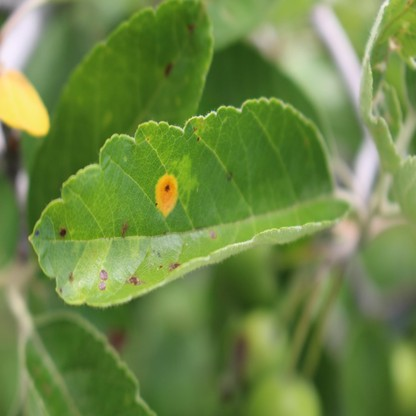frogeye_leaf_spot: (98, 270, 108, 290)
rust: (156, 173, 178, 217)
